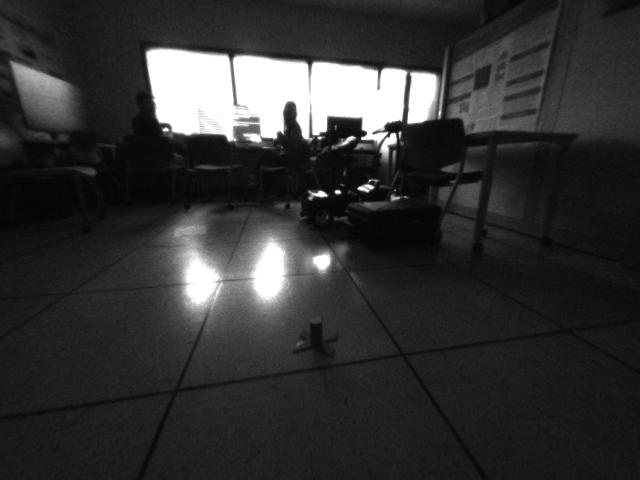x: (289, 317, 340, 363)
